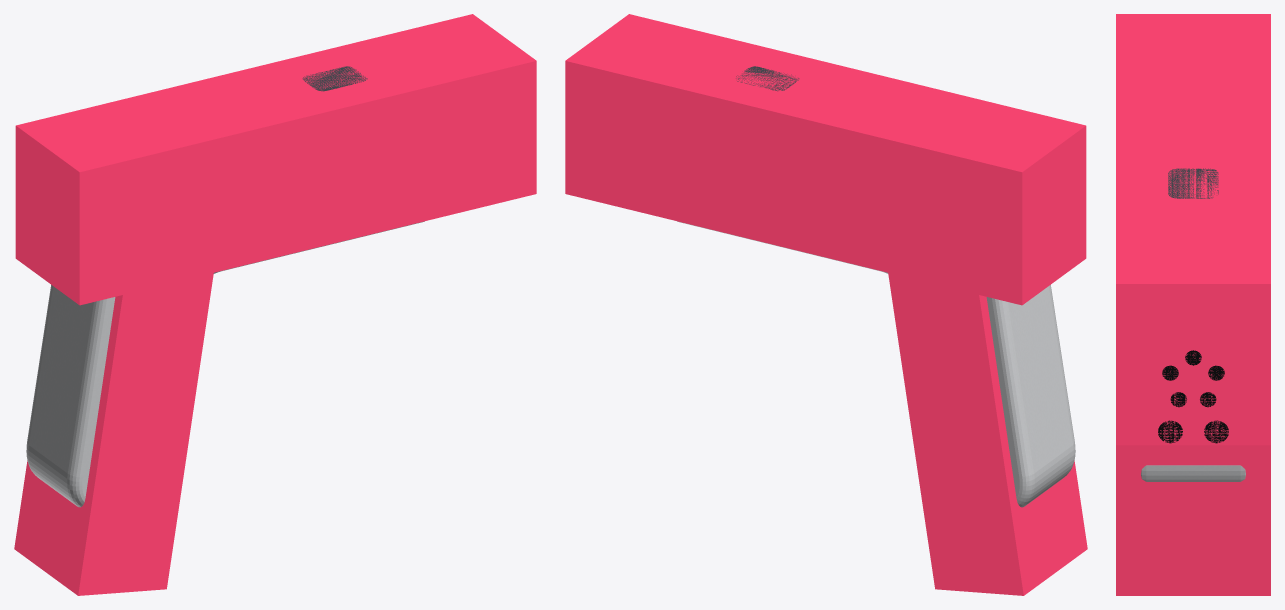
File: 4play_ev_charge_gun.glb
The picture shows the model from 3 angles, left to right: view 1: azimuth 30°, elevation 25°; view 2: azimuth 150°, elevation 25°; view 3: azimuth 270°, elevation 25°; orthographic projection. The views are drawn at different scales.
Visible parts, largest first — view 1: col_gun_head, col_gun_grip, gun_shell, latch_button; view 2: col_gun_head, col_gun_grip, gun_shell, latch_button; view 3: col_gun_head, col_gun_grip, gun_shell, latch_button, dc_pin_r, dc_pin_l.
Part boxes in pixels (x1,y1,x2,y2): col_gun_head: [15, 14, 536, 305]; col_gun_grip: [14, 258, 215, 595]; gun_shell: [26, 221, 424, 507]; latch_button: [302, 66, 367, 91]; col_gun_head: [565, 14, 1086, 305]; col_gun_grip: [886, 258, 1087, 595]; gun_shell: [677, 221, 1075, 507]; latch_button: [736, 66, 799, 91]; col_gun_head: [1116, 14, 1270, 445]; col_gun_grip: [1116, 445, 1270, 595]; gun_shell: [1141, 465, 1245, 481]; latch_button: [1168, 168, 1218, 198]; dc_pin_r: [1204, 420, 1228, 443]; dc_pin_l: [1158, 420, 1182, 443].
Size of the model in its own units: 0.3064 by 0.2797 by 0.074.
Materials: 8 (5 with a texture image).
